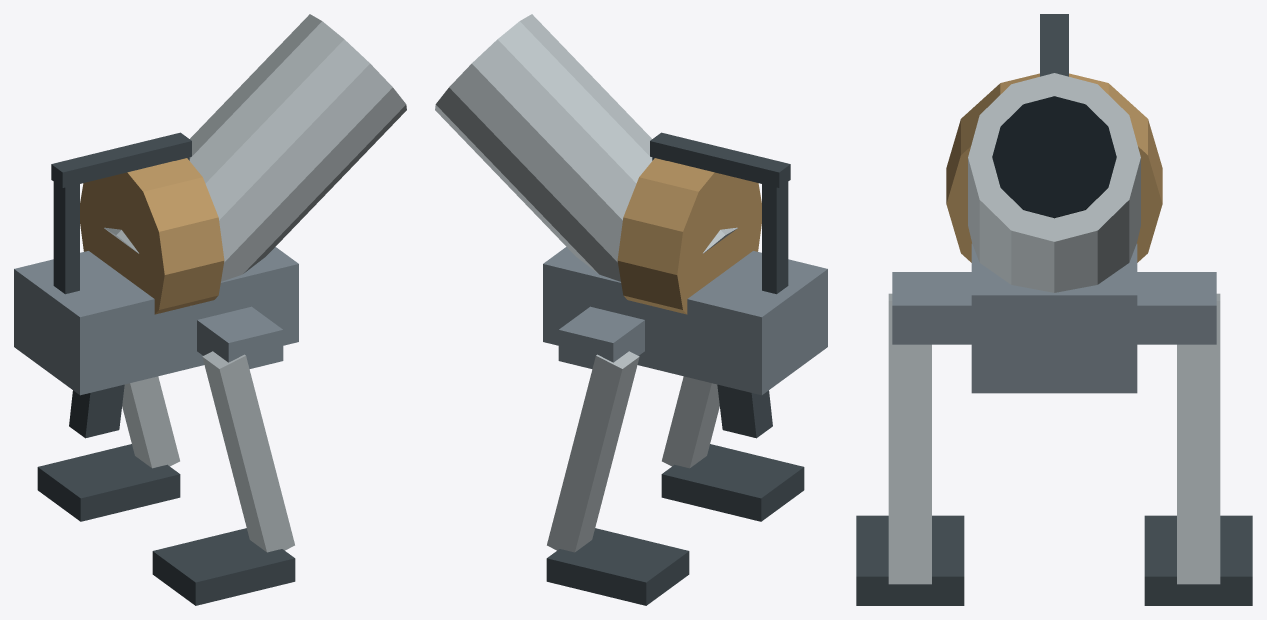
The model's file is w23-vigil-mortar.glb.
The picture shows the model from 3 angles, left to right: view 1: azimuth 30°, elevation 25°; view 2: azimuth 150°, elevation 25°; view 3: azimuth 270°, elevation 25°; orthographic projection. The views are drawn at different scales.
Parts seen in each view (by area): view 1: w23-vigil-mortar__barrel, w23-vigil-mortar__cradle, w23-vigil-mortar__breech, w23-vigil-mortar__brace_leg_-0.2, w23-vigil-mortar__brace_foot_-0.2, w23-vigil-mortar__brace_foot_0.2, w23-vigil-mortar__brace_crossbar, w23-vigil-mortar__carry_handle, w23-vigil-mortar__brace_leg_0.2, w23-vigil-mortar__carry_handle_mount_-0.3, w23-vigil-mortar__grip; view 2: w23-vigil-mortar__barrel, w23-vigil-mortar__cradle, w23-vigil-mortar__breech, w23-vigil-mortar__brace_leg_0.2, w23-vigil-mortar__brace_foot_-0.2, w23-vigil-mortar__brace_foot_0.2, w23-vigil-mortar__brace_crossbar, w23-vigil-mortar__carry_handle, w23-vigil-mortar__brace_leg_-0.2, w23-vigil-mortar__carry_handle_mount_-0.3, w23-vigil-mortar__grip; view 3: w23-vigil-mortar__barrel, w23-vigil-mortar__cradle, w23-vigil-mortar__brace_crossbar, w23-vigil-mortar__barrel_bore, w23-vigil-mortar__brace_leg_-0.2, w23-vigil-mortar__brace_leg_0.2, w23-vigil-mortar__brace_foot_-0.2, w23-vigil-mortar__brace_foot_0.2, w23-vigil-mortar__breech, w23-vigil-mortar__carry_handle.
Part boxes in pixels (x1,y1,x2,y2): w23-vigil-mortar__barrel: [104, 14, 406, 306]; w23-vigil-mortar__cradle: [14, 247, 298, 395]; w23-vigil-mortar__breech: [80, 158, 224, 314]; w23-vigil-mortar__brace_leg_-0.2: [202, 351, 294, 552]; w23-vigil-mortar__brace_foot_-0.2: [152, 528, 295, 605]; w23-vigil-mortar__brace_foot_0.2: [37, 444, 180, 521]; w23-vigil-mortar__brace_crossbar: [197, 306, 283, 368]; w23-vigil-mortar__carry_handle: [51, 132, 191, 187]; w23-vigil-mortar__brace_leg_0.2: [122, 376, 179, 468]; w23-vigil-mortar__carry_handle_mount_-0.3: [53, 176, 79, 294]; w23-vigil-mortar__grip: [69, 384, 124, 438]; w23-vigil-mortar__barrel: [435, 14, 737, 306]; w23-vigil-mortar__cradle: [543, 247, 827, 395]; w23-vigil-mortar__breech: [617, 158, 761, 314]; w23-vigil-mortar__brace_leg_0.2: [547, 351, 639, 552]; w23-vigil-mortar__brace_foot_-0.2: [661, 444, 804, 521]; w23-vigil-mortar__brace_foot_0.2: [546, 528, 689, 605]; w23-vigil-mortar__brace_crossbar: [558, 306, 644, 368]; w23-vigil-mortar__carry_handle: [650, 132, 790, 187]; w23-vigil-mortar__brace_leg_-0.2: [662, 376, 719, 468]; w23-vigil-mortar__carry_handle_mount_-0.3: [762, 176, 788, 294]; w23-vigil-mortar__grip: [717, 384, 772, 438]; w23-vigil-mortar__barrel: [968, 73, 1140, 292]; w23-vigil-mortar__cradle: [971, 244, 1137, 393]; w23-vigil-mortar__brace_crossbar: [892, 272, 1216, 344]; w23-vigil-mortar__barrel_bore: [992, 96, 1116, 218]; w23-vigil-mortar__brace_leg_-0.2: [888, 293, 931, 584]; w23-vigil-mortar__brace_leg_0.2: [1177, 293, 1220, 584]; w23-vigil-mortar__brace_foot_-0.2: [856, 515, 964, 605]; w23-vigil-mortar__brace_foot_0.2: [1144, 515, 1252, 605]; w23-vigil-mortar__breech: [946, 73, 1162, 262]; w23-vigil-mortar__carry_handle: [1040, 14, 1068, 76].
Bounding box in the file's own units: 0.6986 × 0.9159 × 0.55.
